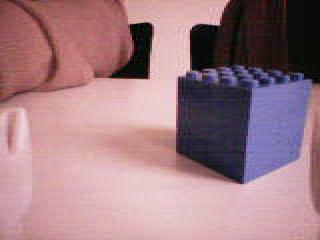legocube: (175, 62, 313, 187)
